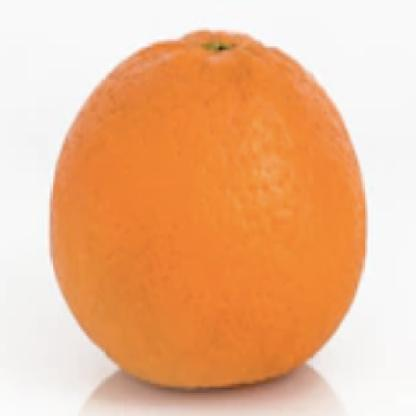fresh: (51, 31, 367, 392)
